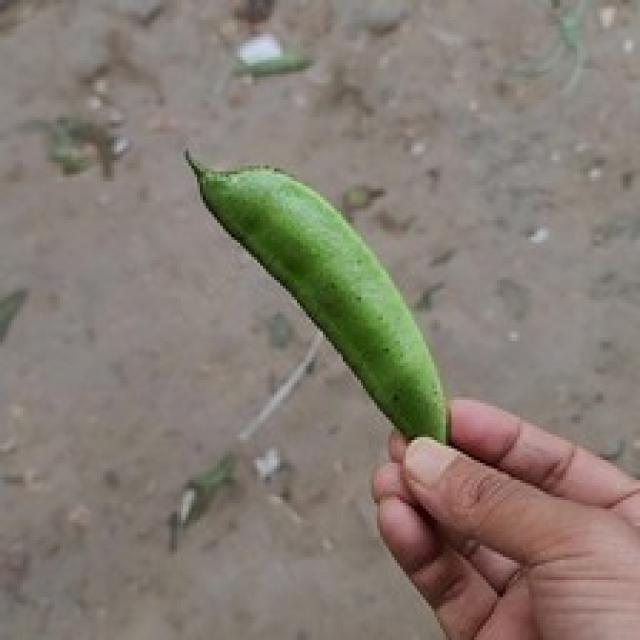Bean: (183, 146, 451, 446)
